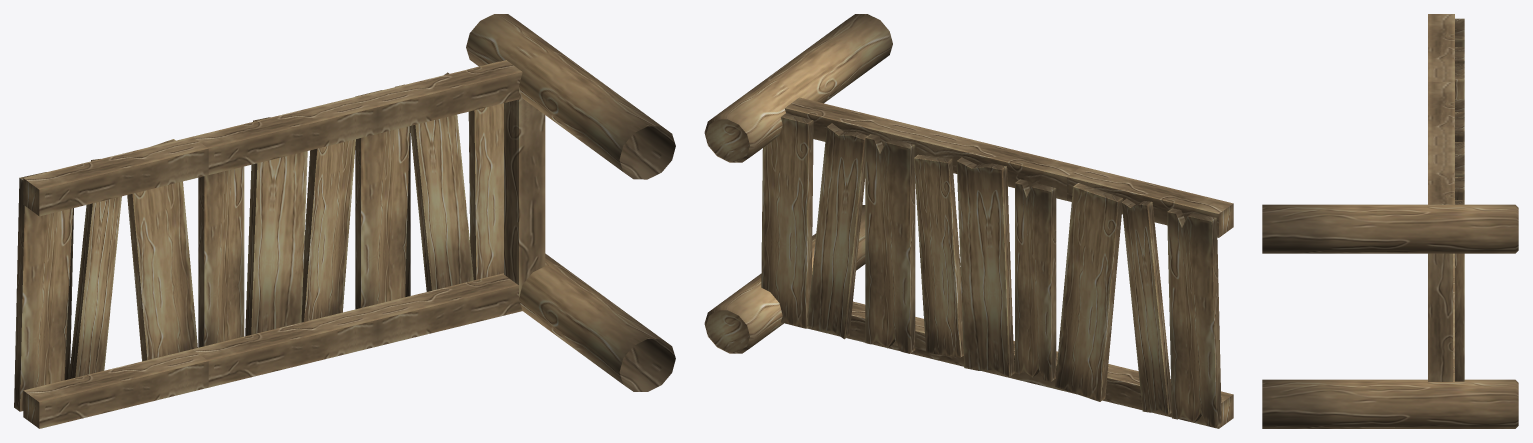
The model's file is Dock.fbx.
3 renders of one model, left to right at view 1: azimuth 30°, elevation 25°; view 2: azimuth 150°, elevation 25°; view 3: azimuth 270°, elevation 25°, orthographic. The views are drawn at different scales.
Parts seen in each view (by area): view 1: Dock; view 2: Dock; view 3: Dock.
Part boxes in pixels (x1,y1,x2,y2): Dock: (14,14,675,428); Dock: (704,14,1233,428); Dock: (1262,14,1518,428).
Bounding box in the file's own units: 1338 × 630 × 669.
